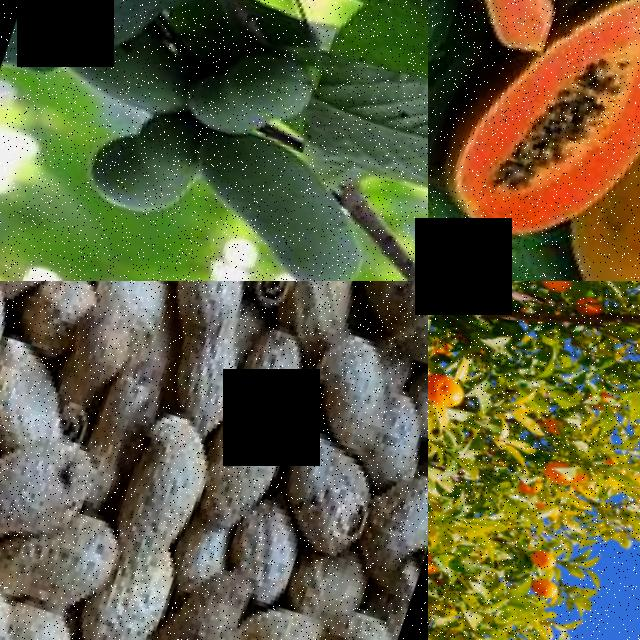orange: (428, 369, 467, 414), (523, 547, 557, 574), (526, 577, 561, 603), (533, 281, 575, 297)
pawpaw: (493, 0, 640, 276), (429, 0, 605, 51)
peanuts: (74, 423, 219, 640), (194, 326, 318, 539), (299, 327, 428, 474), (150, 281, 265, 432), (0, 410, 100, 561), (273, 430, 388, 546), (211, 501, 308, 621), (0, 550, 78, 640), (239, 597, 396, 640)
